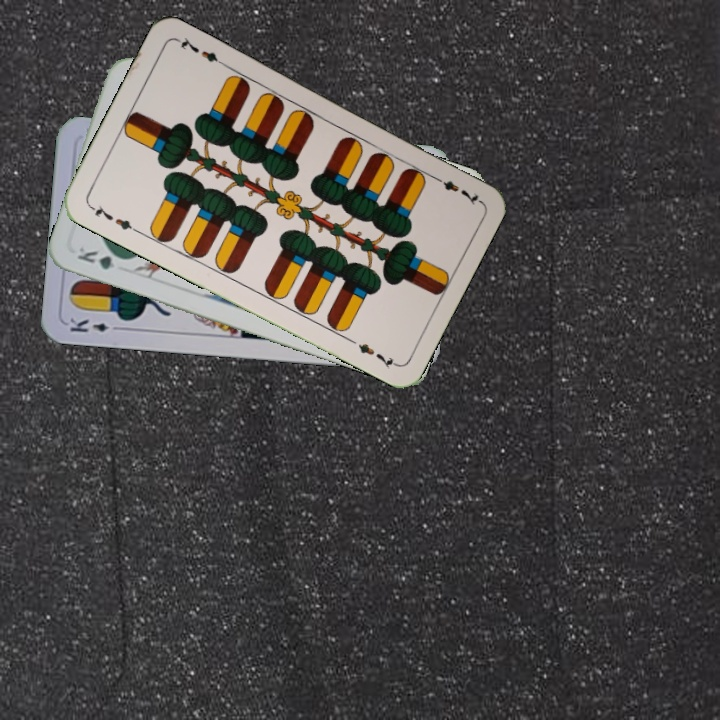E7: (428, 171, 483, 208), (86, 201, 141, 235)
EK: (65, 313, 124, 335)
GK: (73, 243, 131, 272)
